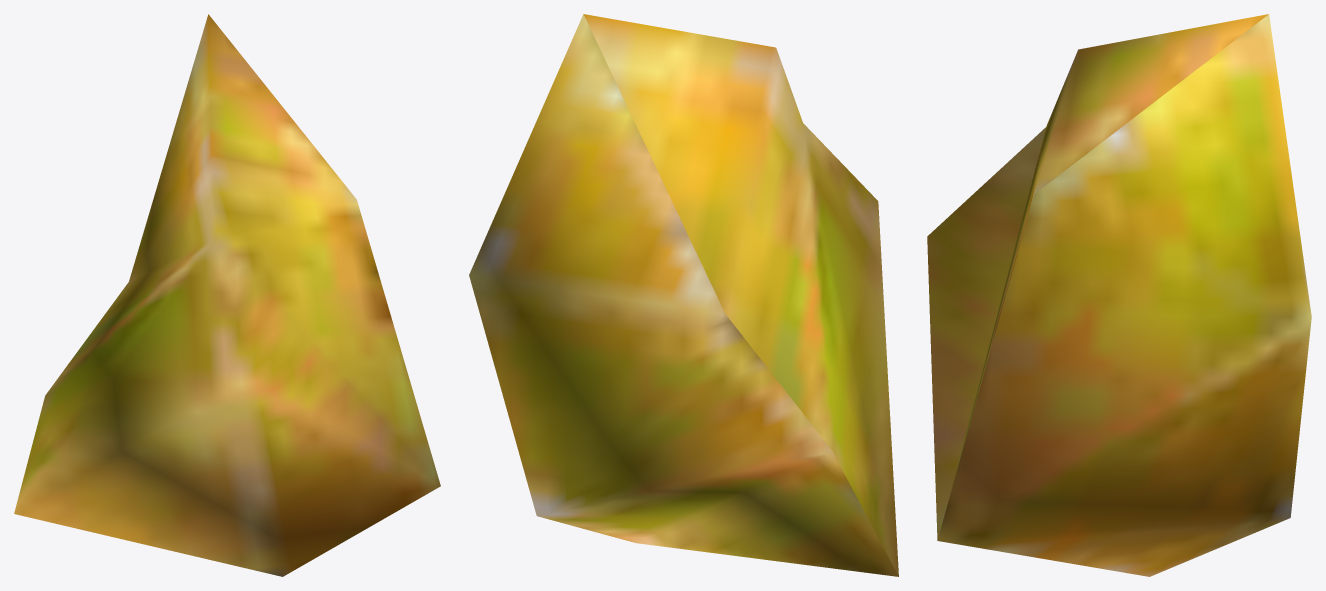
Rendered from huoshan_shuijing04.fbx.
3 renders of one model, left to right at view 1: azimuth 30°, elevation 25°; view 2: azimuth 150°, elevation 25°; view 3: azimuth 270°, elevation 25°, orthographic. The views are drawn at different scales.
Parts seen in each view (by area): view 1: huoshan_shuijing04; view 2: huoshan_shuijing04; view 3: huoshan_shuijing04.
Part boxes in pixels (x1=…): huoshan_shuijing04: x1=14, y1=14, x2=440, y2=576; huoshan_shuijing04: x1=469, y1=14, x2=898, y2=576; huoshan_shuijing04: x1=927, y1=14, x2=1311, y2=576.
Bounding box in the file's own units: 1.36 × 1.9 × 1.18.
